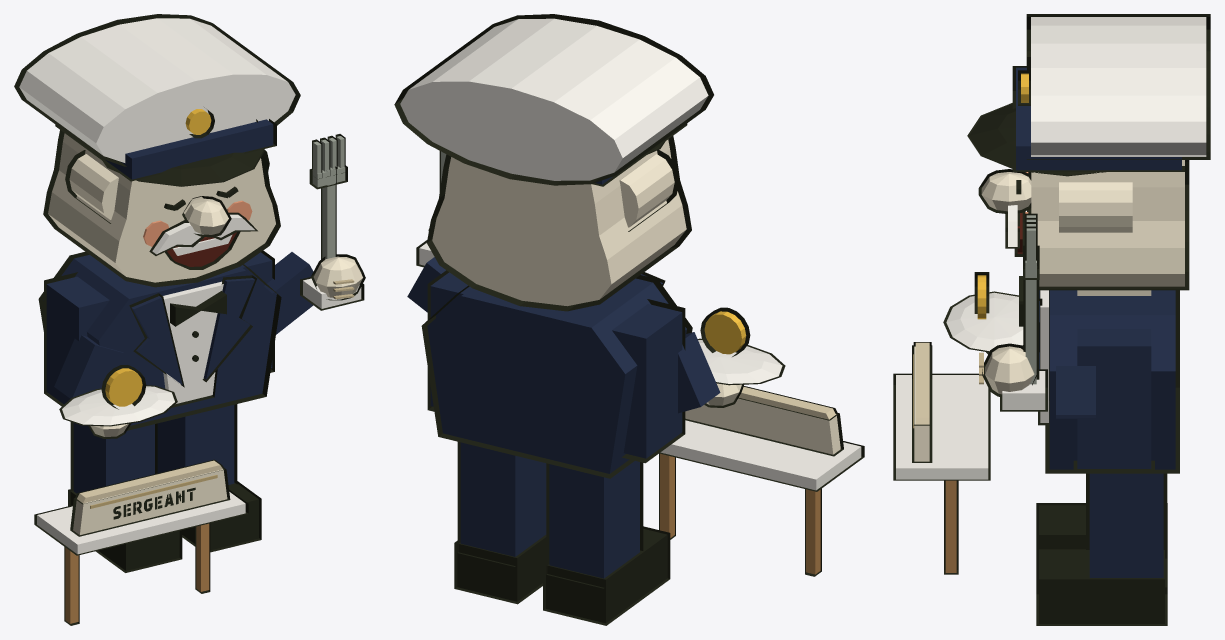
The picture shows the model from 3 angles, left to right: view 1: azimuth 30°, elevation 25°; view 2: azimuth 150°, elevation 25°; view 3: azimuth 270°, elevation 25°; orthographic projection. The views are drawn at different scales.
Parts seen in each view (by area): view 1: Link Marine; view 2: Link Marine; view 3: Link Marine.
Boxes of the visible parts, left/top/right/bottom form: Link Marine: left=14, top=14, right=365, bottom=625; Link Marine: left=394, top=14, right=864, bottom=625; Link Marine: left=893, top=14, right=1210, bottom=625.
Size of the model in its own units: 0.722 by 0.9836 by 0.5155.
